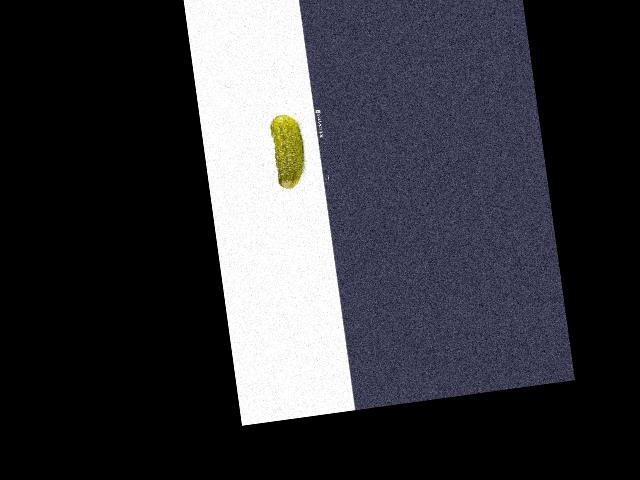cucumber: (269, 113, 309, 191)
